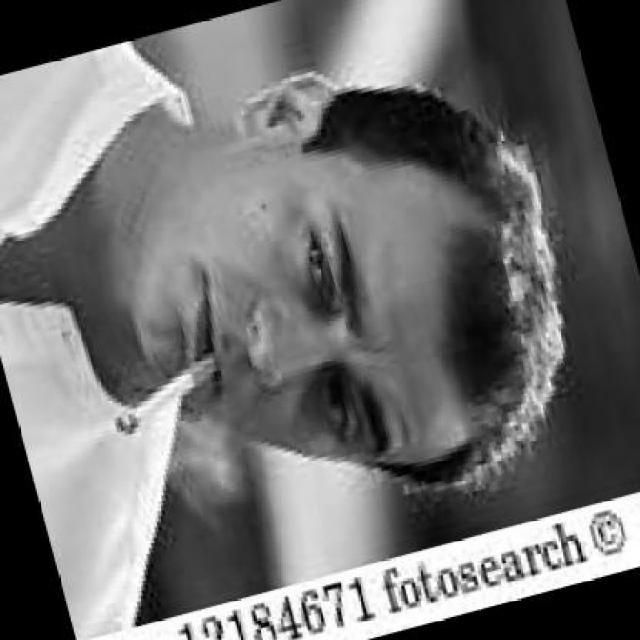smoke: (100, 350, 229, 441)
